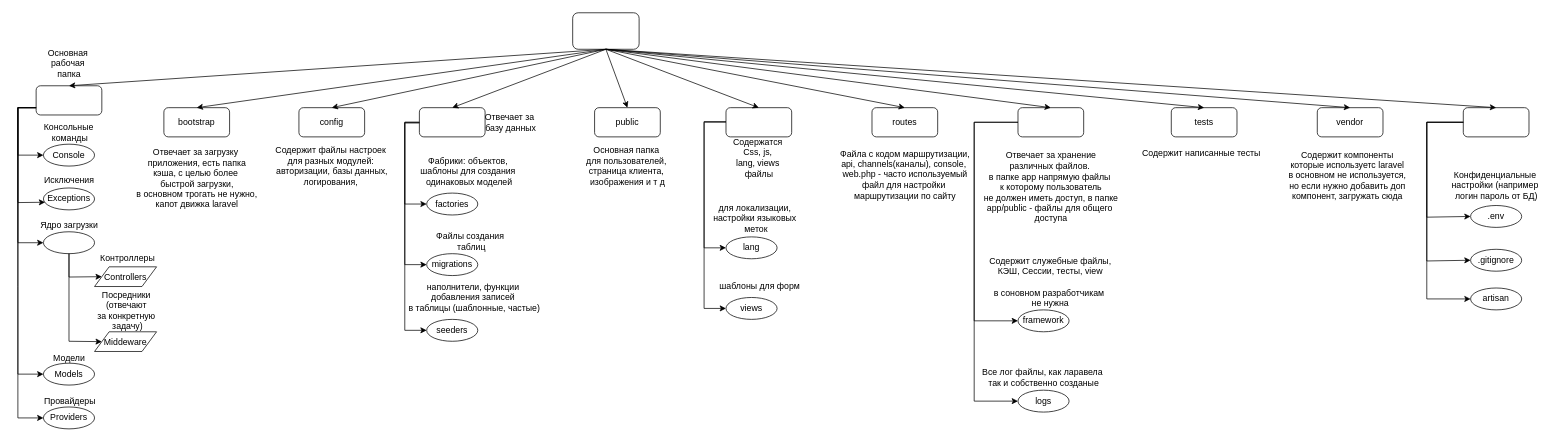
The diagram is 1560 pixels wide and 442 high, and some of its shapes have lost their labels. Here are the shapes that lost their labels. From the top down, the centre of each, then its label:
At pixel 605 30: "Архитектура laravel".
At pixel 68 100: "app".
At pixel 452 122: "database".
At pixel 758 122: "resources".
At pixel 1050 122: "storage".
At pixel 1496 122: "Важные файлы".
At pixel 69 242: "Http".
